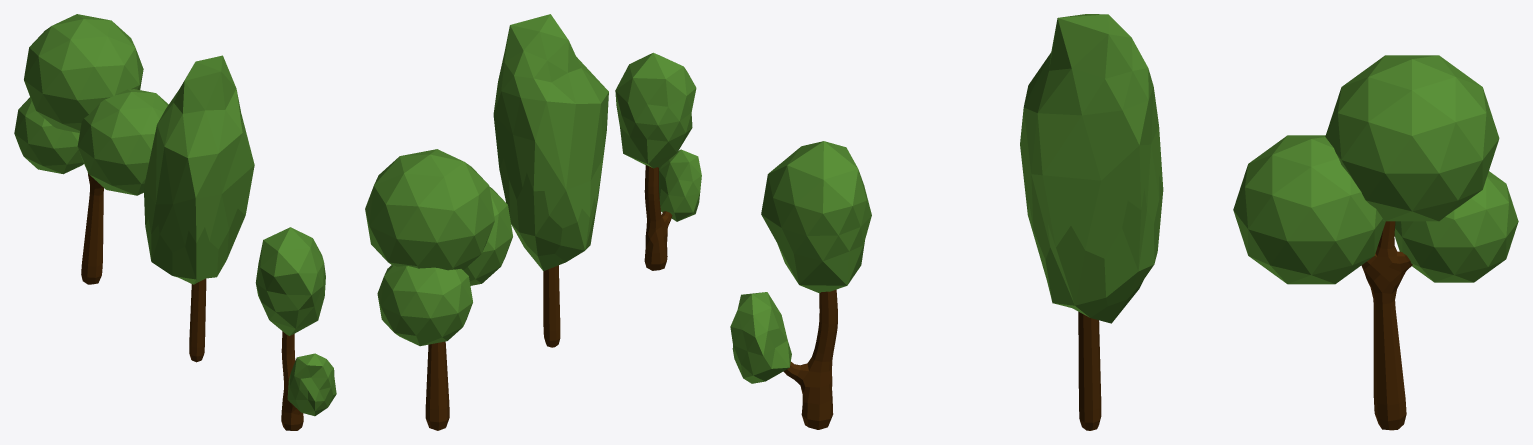
Rendered from trees.fbx.
3 renders of one model, left to right at view 1: azimuth 30°, elevation 25°; view 2: azimuth 150°, elevation 25°; view 3: azimuth 270°, elevation 25°, orthographic. The views are drawn at different scales.
Visible parts, largest first — view 1: Foliage1, Foliage2_2, Foliage2_1, Foliage3, Foliage2, Foliage3_1, Base2, Base1, Base3; view 2: Foliage1, Foliage2_2, Foliage3, Foliage2, Foliage3_1, Foliage2_1, Base3, Base2, Base1; view 3: Foliage1, Foliage2_2, Foliage2_1, Foliage3, Foliage2, Base2, Foliage3_1, Base3, Base1.
Boxes of the visible parts, bbox=[...] form: Foliage1: bbox=[143, 55, 254, 284]; Foliage2_2: bbox=[24, 14, 143, 132]; Foliage2_1: bbox=[77, 89, 168, 195]; Foliage3: bbox=[255, 227, 325, 335]; Foliage2: bbox=[14, 97, 83, 174]; Foliage3_1: bbox=[287, 353, 336, 416]; Base2: bbox=[81, 172, 103, 284]; Base1: bbox=[189, 278, 206, 362]; Base3: bbox=[281, 331, 303, 430]; Foliage1: bbox=[493, 14, 608, 271]; Foliage2_2: bbox=[365, 149, 494, 270]; Foliage3: bbox=[615, 52, 696, 168]; Foliage2: bbox=[377, 265, 472, 346]; Foliage3_1: bbox=[659, 149, 701, 221]; Foliage2_1: bbox=[464, 186, 512, 285]; Base3: bbox=[644, 165, 672, 270]; Base2: bbox=[425, 341, 449, 430]; Base1: bbox=[543, 265, 560, 347]; Foliage1: bbox=[1020, 14, 1163, 323]; Foliage2_2: bbox=[1325, 55, 1499, 221]; Foliage2_1: bbox=[1233, 135, 1385, 284]; Foliage3: bbox=[761, 141, 871, 293]; Foliage2: bbox=[1394, 171, 1518, 282]; Base2: bbox=[1361, 221, 1412, 430]; Foliage3_1: bbox=[730, 292, 791, 383]; Base3: bbox=[783, 289, 837, 429]; Base1: bbox=[1078, 311, 1101, 430].
Bounding box in the file's own units: 353 × 925 × 1565.
